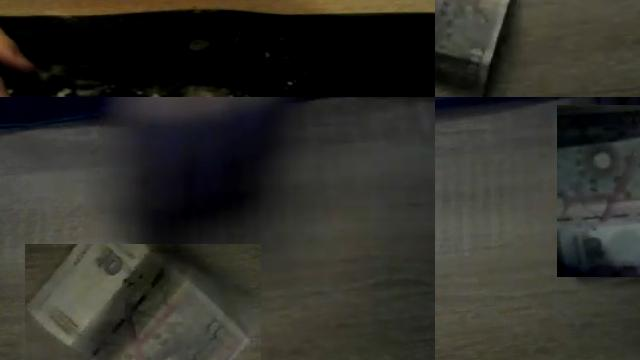10leva: (25, 244, 261, 360), (557, 107, 640, 273)
